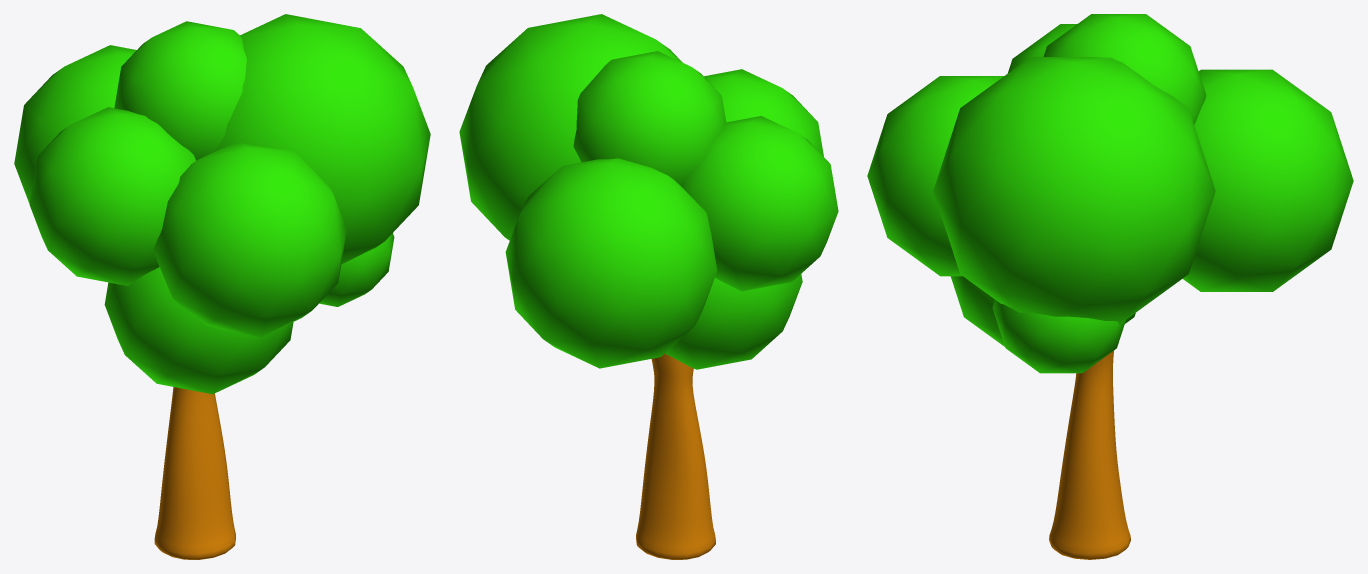
File: Tree1.fbx
The picture shows the model from 3 angles, left to right: view 1: azimuth 30°, elevation 25°; view 2: azimuth 150°, elevation 25°; view 3: azimuth 270°, elevation 25°; orthographic projection. The views are drawn at different scales.
Parts seen in each view (by area): view 1: Tree1; view 2: Tree1; view 3: Tree1.
Boxes of the visible parts, left/top/right/bottom form: Tree1: left=14, top=14, right=430, bottom=559; Tree1: left=459, top=14, right=838, bottom=559; Tree1: left=867, top=14, right=1353, bottom=559.
Bounding box in the file's own units: 1085 × 1462 × 1202.
